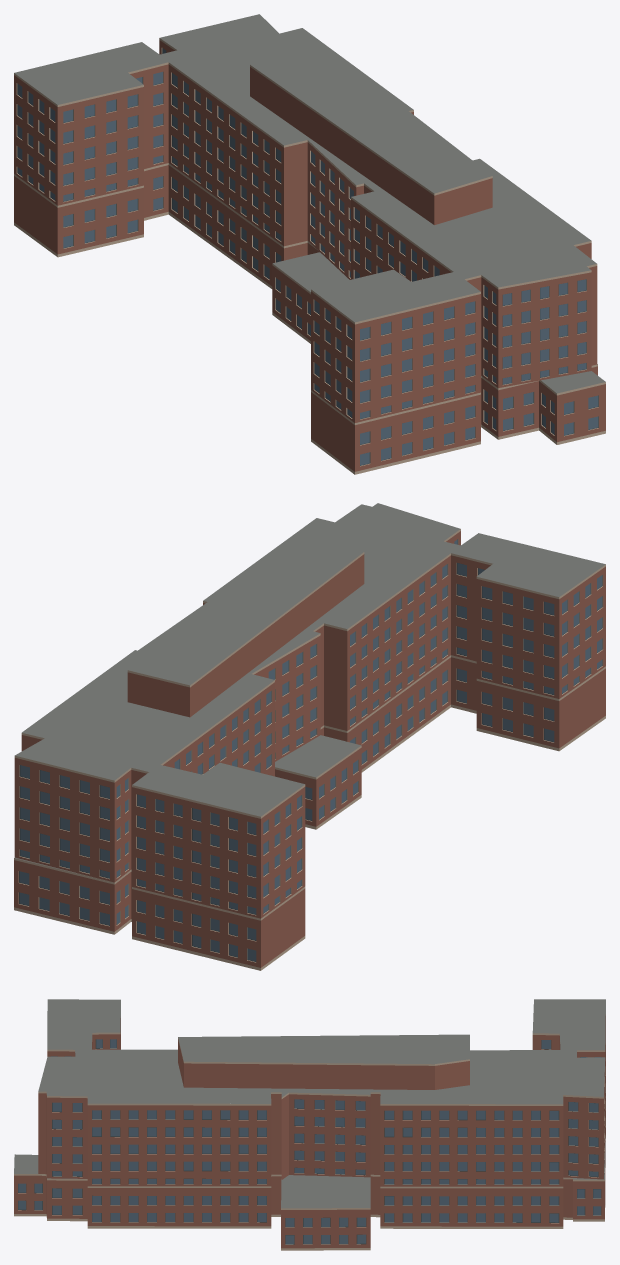
File: dc-au-letts-hall.detail.glb
3 views of the same model, one above another, from view 1: azimuth 30°, elevation 25°; view 2: azimuth 150°, elevation 25°; view 3: azimuth 270°, elevation 25° (orthographic). The views are drawn at different scales.
Visible parts, largest first — view 1: Letts Hall; view 2: Letts Hall; view 3: Letts Hall.
Boxes of the visible parts, x1=… form: Letts Hall: x1=14, y1=14, x2=605, y2=474; Letts Hall: x1=14, y1=503, x2=605, y2=970; Letts Hall: x1=14, y1=999, x2=605, y2=1250.
Bounding box in the file's own units: 51.38 × 28.5 × 101.
